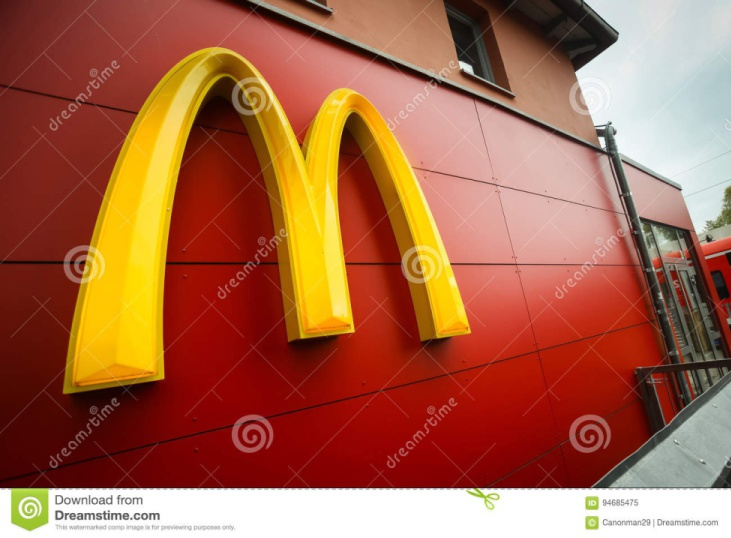mcdonalds: (55, 42, 480, 428)
